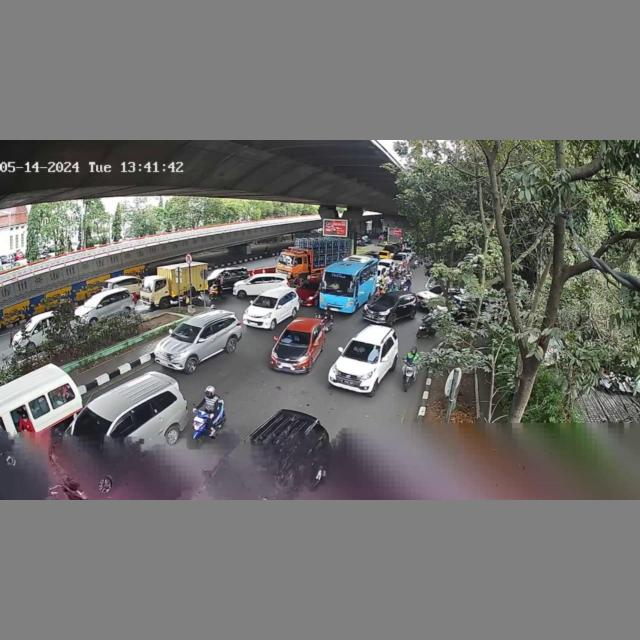windshield: (345, 340, 380, 361), (280, 328, 311, 347), (170, 323, 200, 341), (254, 296, 278, 308), (375, 295, 399, 305)
